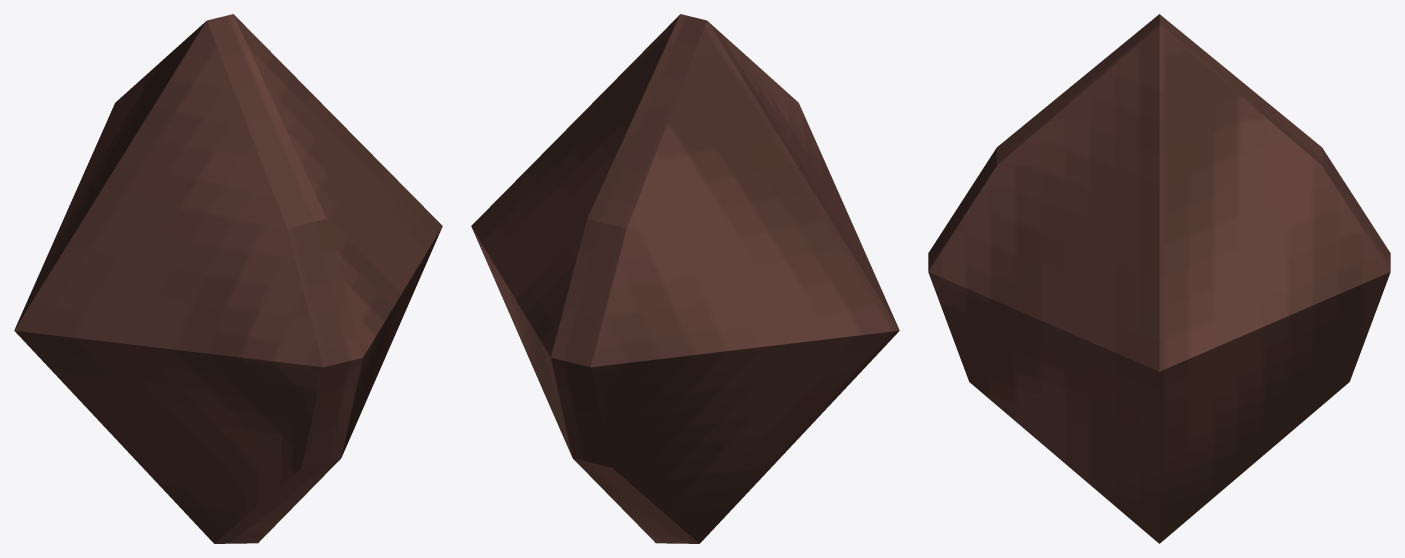
The model's file is Fireball.fbx.
The picture shows the model from 3 angles, left to right: view 1: azimuth 30°, elevation 25°; view 2: azimuth 150°, elevation 25°; view 3: azimuth 270°, elevation 25°; orthographic projection. The views are drawn at different scales.
Visible parts, largest first — view 1: Cube; view 2: Cube; view 3: Cube.
Boxes of the visible parts, box(x1,y1,x2,y2) form: Cube: box(14, 14, 442, 543); Cube: box(471, 14, 899, 543); Cube: box(928, 14, 1390, 543).
Size of the model in its own units: 40.9 by 48.8 by 40.41.
Materials: 1 (1 with a texture image).
